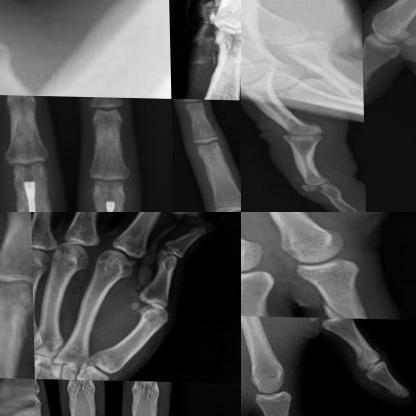fracture: (8, 171, 64, 211), (328, 292, 385, 317), (91, 187, 131, 211), (291, 176, 336, 196)
